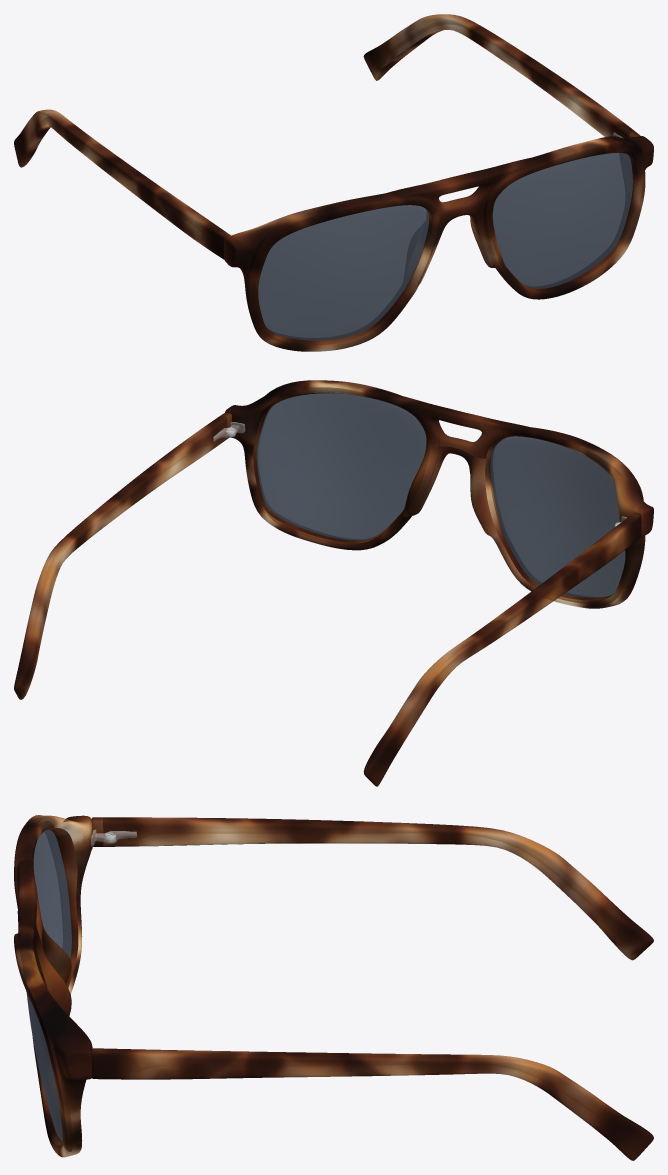
File: hatcher-sun-sbf-oak-barrel_medium.glb
3 views of the same model, one above another, from view 1: azimuth 30°, elevation 25°; view 2: azimuth 150°, elevation 25°; view 3: azimuth 270°, elevation 25° (orthographic). The views are drawn at different scales.
Visible parts, largest first — view 1: lenses, face_front, left_temple, right_temple; view 2: lenses, face_front, right_temple, left_temple; view 3: left_temple, right_temple, face_front, lenses.
Boxes of the visible parts, x1=… form: lenses: x1=258, y1=153, x2=632, y2=340; face_front: x1=224, y1=136, x2=653, y2=351; left_temple: x1=363, y1=14, x2=640, y2=138; right_temple: x1=14, y1=109, x2=230, y2=259; lenses: x1=256, y1=387, x2=626, y2=602; face_front: x1=225, y1=380, x2=653, y2=608; right_temple: x1=363, y1=512, x2=641, y2=786; left_temple: x1=14, y1=412, x2=231, y2=699; left_temple: x1=91, y1=1048, x2=653, y2=1160; right_temple: x1=91, y1=817, x2=653, y2=960; face_front: x1=14, y1=815, x2=92, y2=1157; lenses: x1=26, y1=830, x2=71, y2=1151.
Size of the model in its own units: 0.1378 by 0.0478 by 0.1556.
3 materials, 1 textured.
